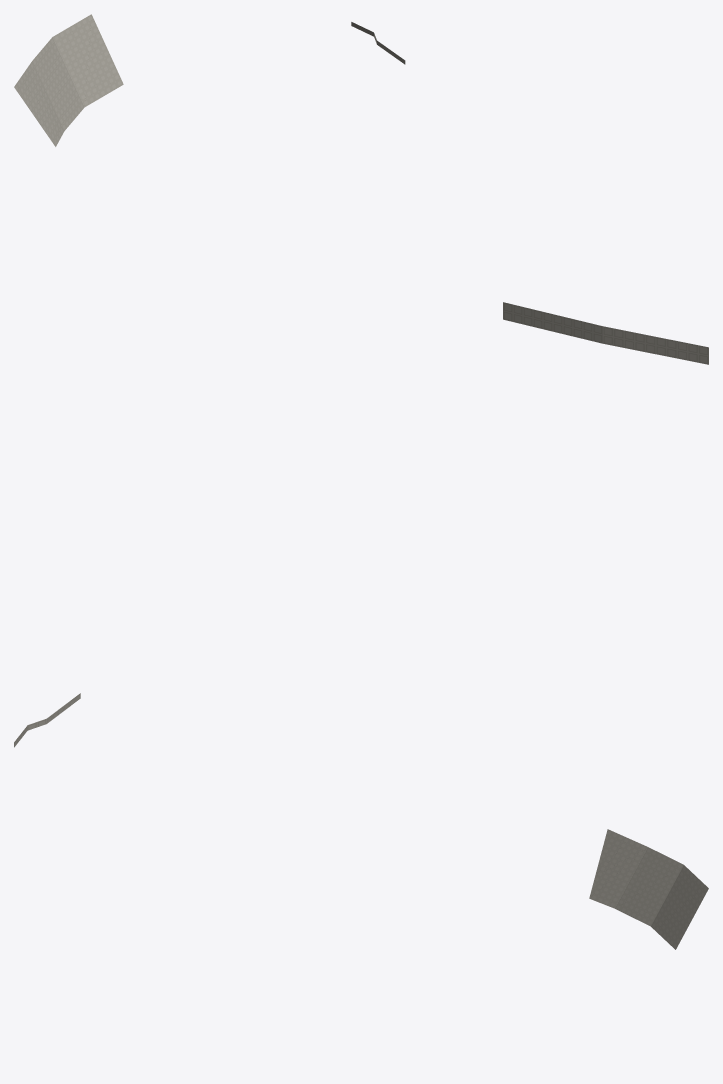
File: kd_connection_town-ground_surface_2_22.glb
3 views of the same model, one above another, from view 1: azimuth 30°, elevation 25°; view 2: azimuth 150°, elevation 25°; view 3: azimuth 270°, elevation 25° (orthographic). The views are drawn at different scales.
Visible parts, largest first — view 1: kd_connection_town-ground_surface_2_22; view 2: kd_connection_town-ground_surface_2_22; view 3: kd_connection_town-ground_surface_2_22.
Boxes of the visible parts, box(x1,y1,x2,y2) form: kd_connection_town-ground_surface_2_22: box(14, 14, 405, 146); kd_connection_town-ground_surface_2_22: box(14, 302, 708, 747); kd_connection_town-ground_surface_2_22: box(589, 829, 708, 949).
Size of the model in its own units: 105 by 20.9 by 175.
Materials: 1 (1 with a texture image).
